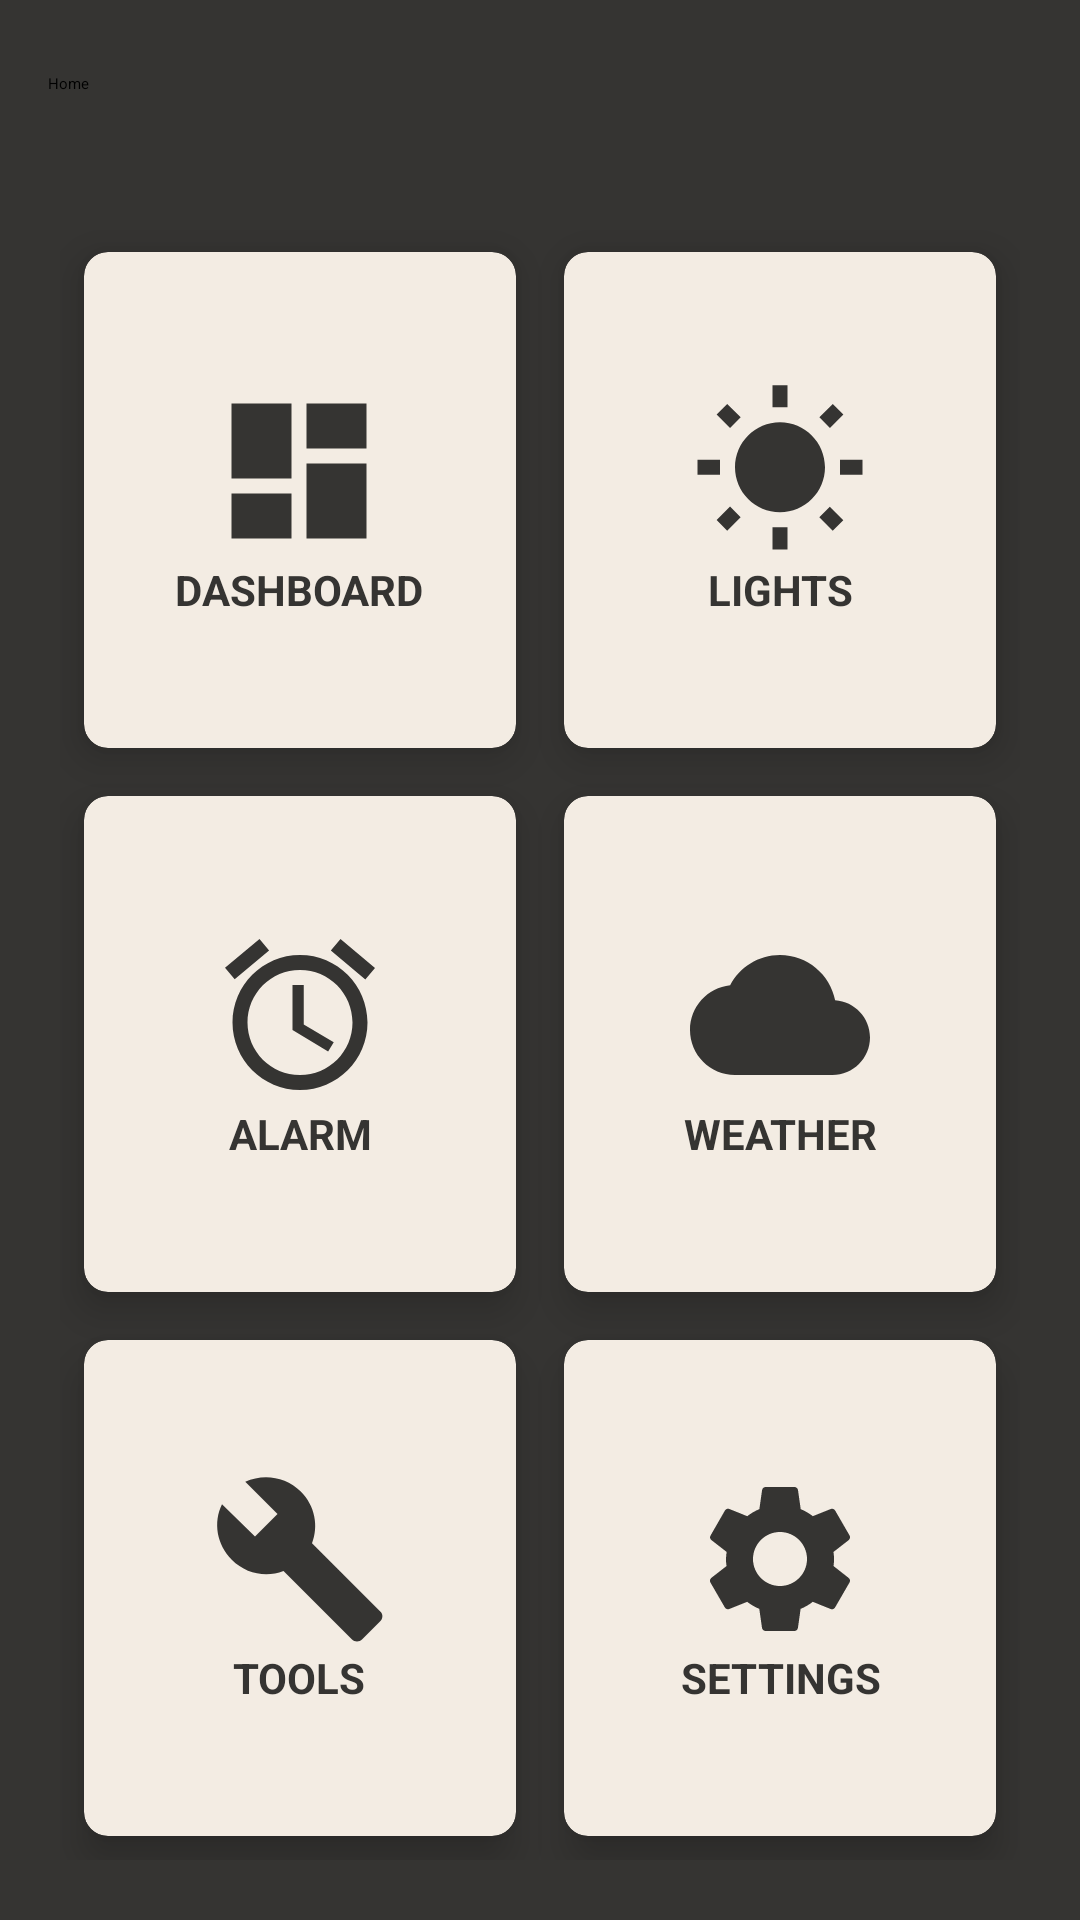

Point at icon controls on the screen. Image size 1080 × 1920, points as (x,y).
build: (300,1559)
cloud: (780,1015)
sunny: (780,467)
